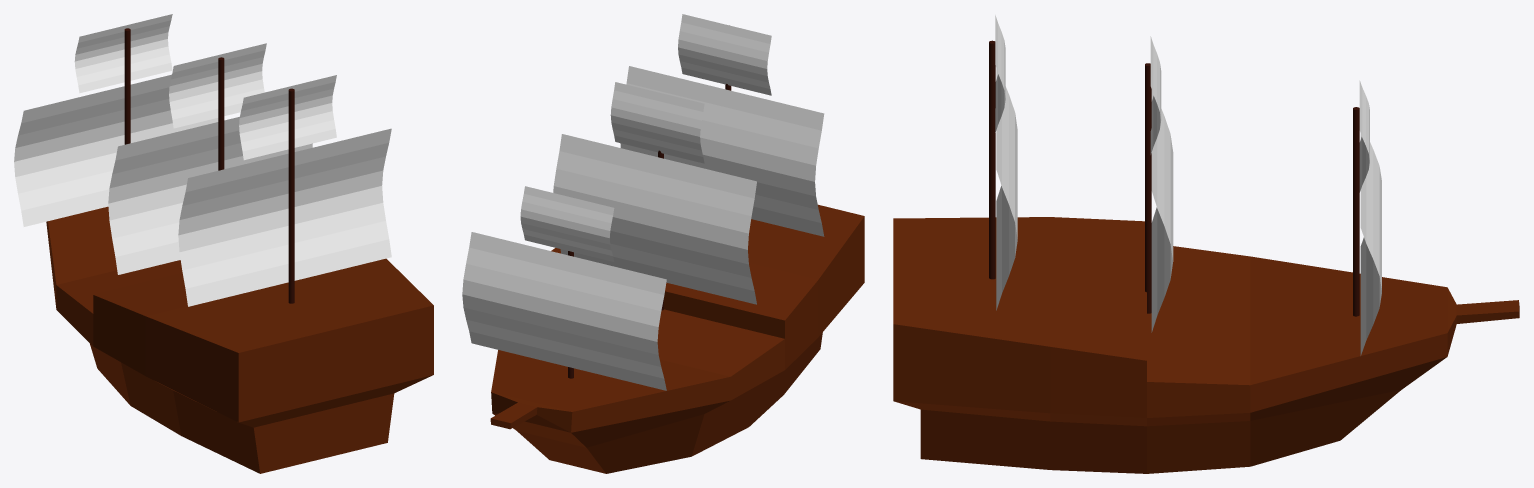
File: boat.glb
3 views of the same model, side by side, from view 1: azimuth 30°, elevation 25°; view 2: azimuth 150°, elevation 25°; view 3: azimuth 270°, elevation 25° (orthographic). The views are drawn at different scales.
Parts seen in each view (by area): view 1: Cube, Plane, Plane.004, Plane.002, Plane.001, Plane.003, Plane.005, Cylinder, Cylinder.002, Cylinder.001; view 2: Cube, Plane.004, Plane.002, Plane, Plane.001, Plane.003, Plane.005; view 3: Cube, Plane.002, Plane, Plane.004, Cylinder, Cylinder.001, Cylinder.002, Plane.003, Plane.001, Plane.005.
Part boxes in pixels (left/top/right/bottom): Cube: left=46, top=206, right=433, bottom=473; Plane: left=178, top=128, right=391, bottom=306; Plane.004: left=14, top=74, right=218, bottom=226; Plane.002: left=108, top=116, right=312, bottom=274; Plane.001: left=239, top=75, right=336, bottom=160; Plane.003: left=169, top=43, right=266, bottom=128; Plane.005: left=74, top=14, right=172, bottom=93; Cylinder: left=288, top=88, right=294, bottom=303; Cylinder.002: left=124, top=28, right=130, bottom=144; Cylinder.001: left=218, top=57, right=224, bottom=170; Cube: left=490, top=204, right=864, bottom=473; Plane.004: left=462, top=232, right=666, bottom=390; Plane.002: left=553, top=134, right=756, bottom=304; Plane: left=620, top=66, right=824, bottom=236; Plane.001: left=678, top=14, right=771, bottom=95; Plane.003: left=610, top=82, right=704, bottom=163; Plane.005: left=520, top=186, right=614, bottom=261; Cube: left=893, top=217, right=1519, bottom=473; Plane.002: left=1151, top=90, right=1173, bottom=332; Plane: left=996, top=68, right=1017, bottom=310; Plane.004: left=1360, top=133, right=1381, bottom=355; Cylinder: left=989, top=40, right=995, bottom=279; Cylinder.001: left=1145, top=63, right=1151, bottom=313; Cylinder.002: left=1353, top=107, right=1359, bottom=316; Plane.003: left=1150, top=36, right=1161, bottom=154; Plane.001: left=995, top=15, right=1005, bottom=132; Plane.005: left=1359, top=80, right=1369, bottom=192.
Size of the model in its own units: 2.53 by 3.26 by 4.8.
